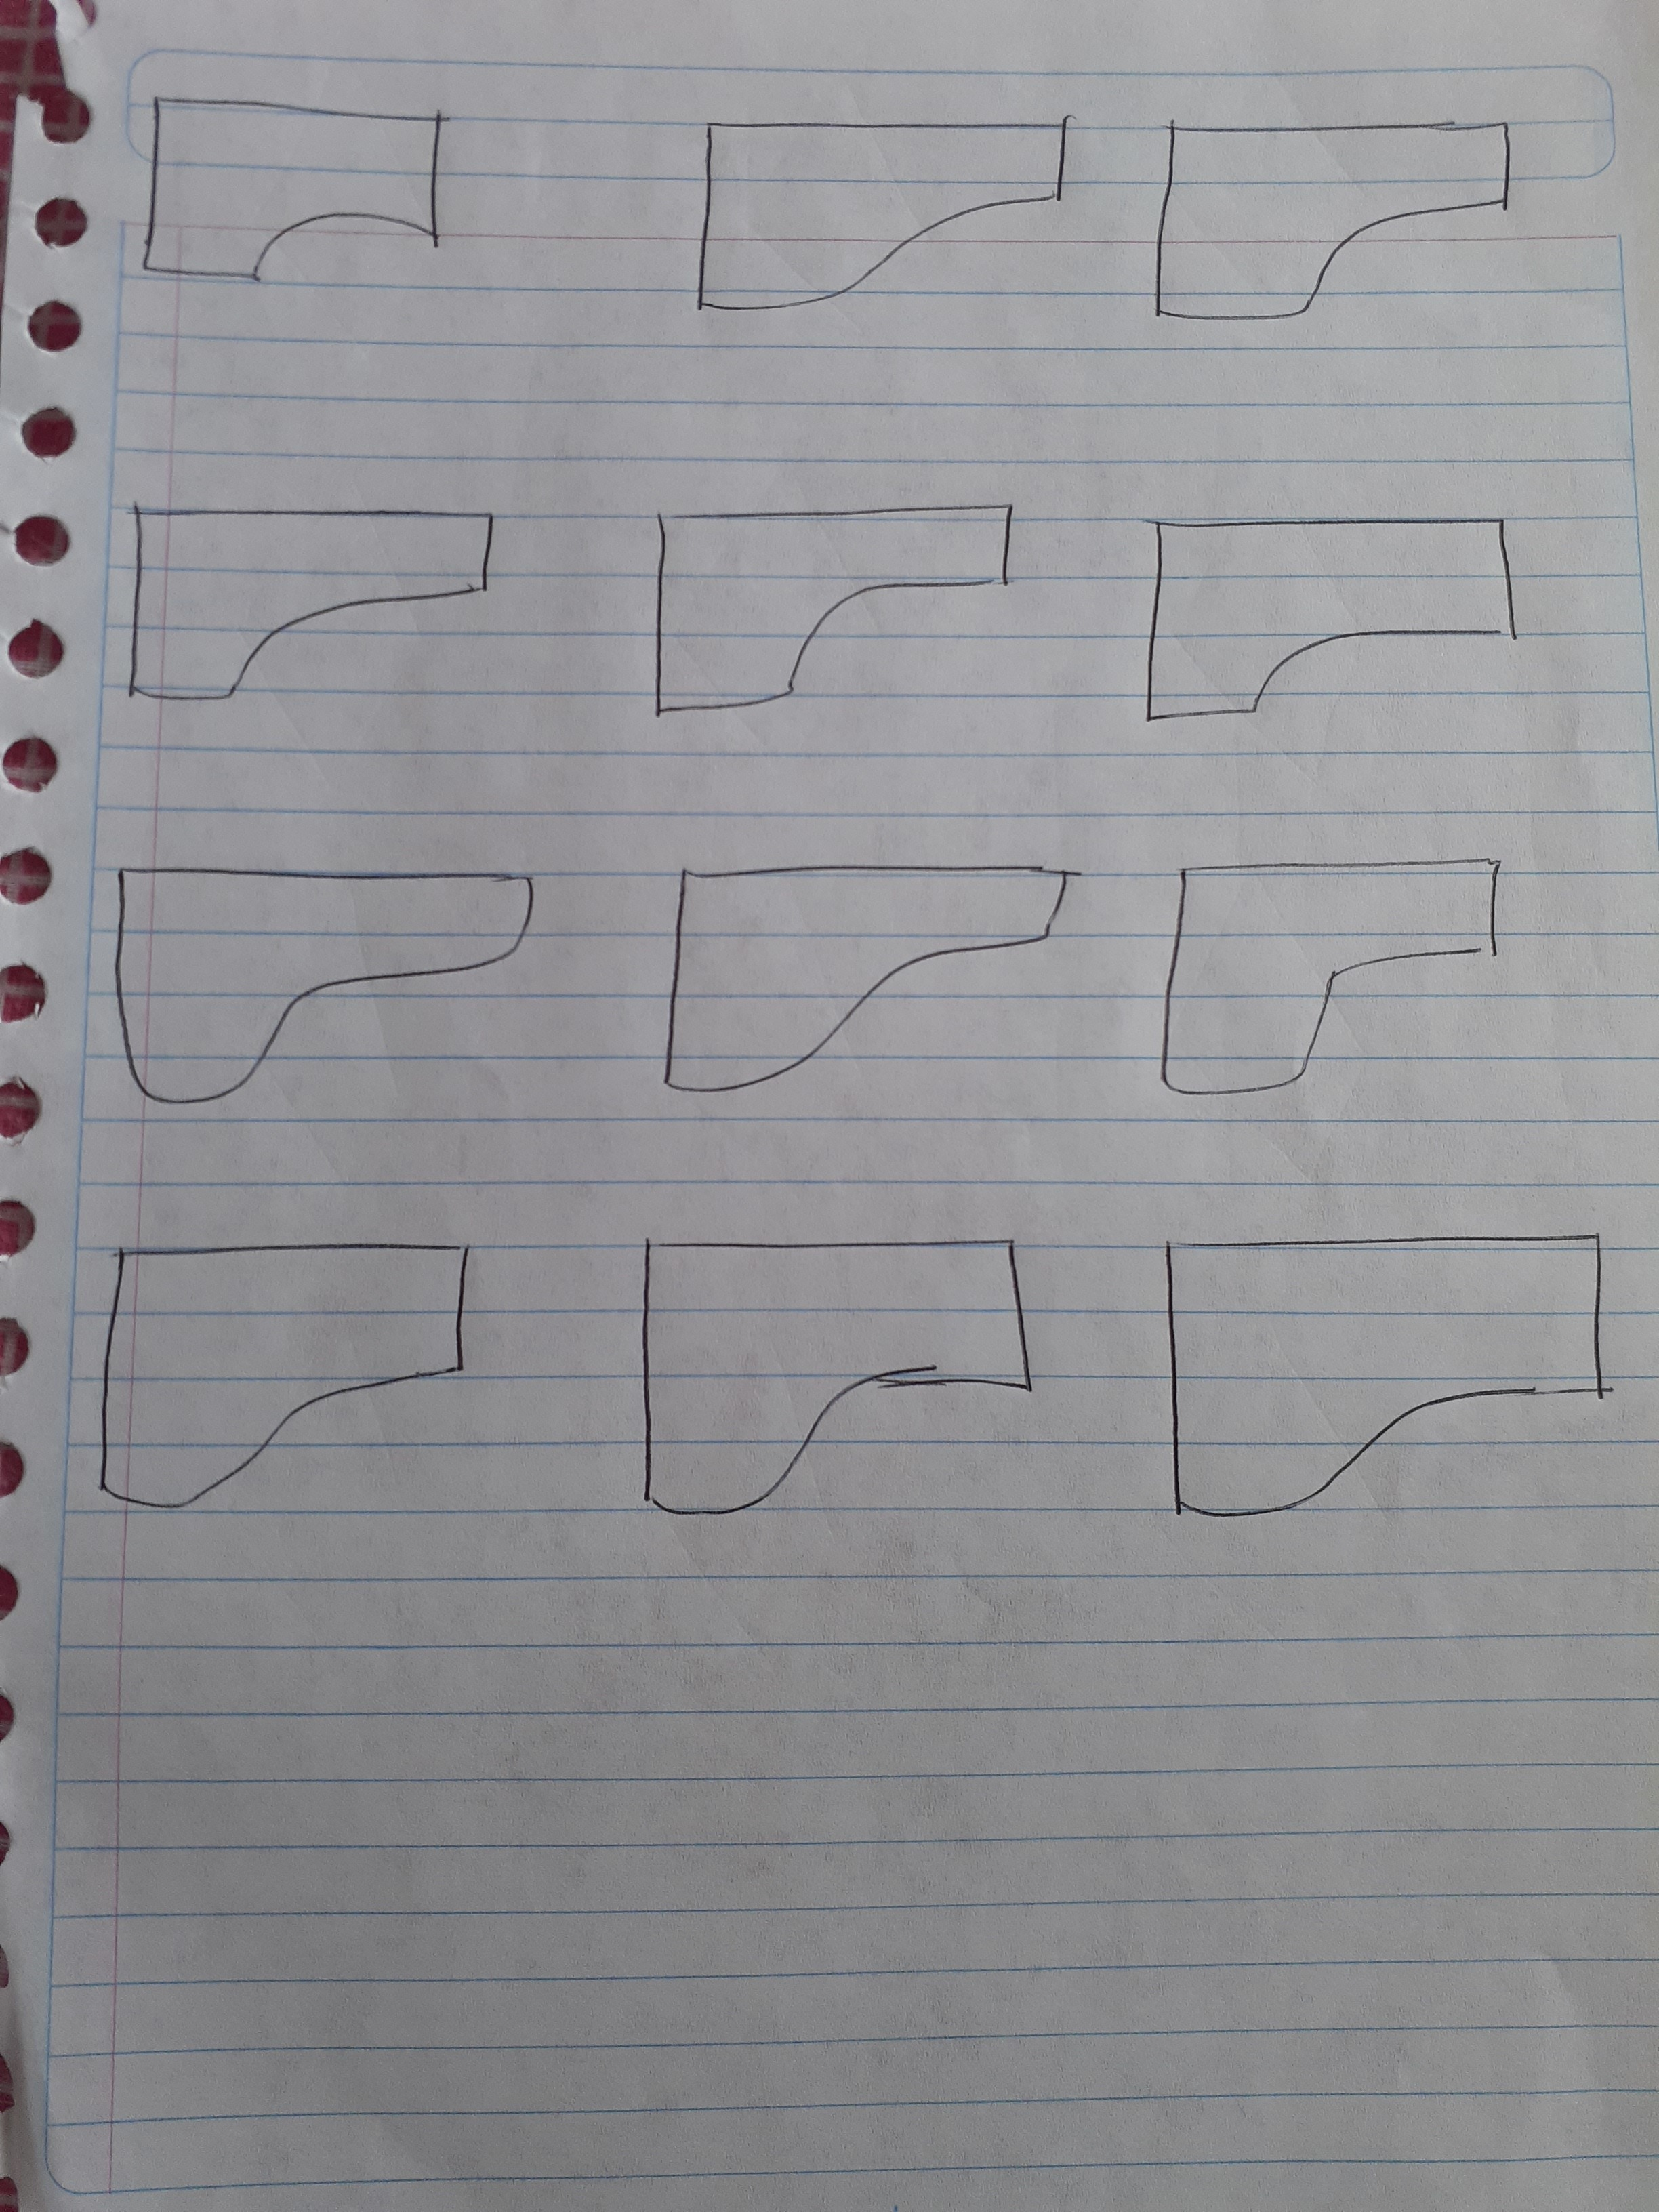print: (1133, 1207, 1631, 1540), (598, 1211, 1068, 1550), (75, 838, 566, 1123), (645, 831, 1091, 1116), (674, 56, 1091, 357), (68, 1228, 488, 1522), (1115, 482, 1546, 744), (96, 469, 512, 737), (634, 455, 1021, 733), (1154, 827, 1521, 1113), (1140, 80, 1525, 340), (125, 80, 495, 300)
